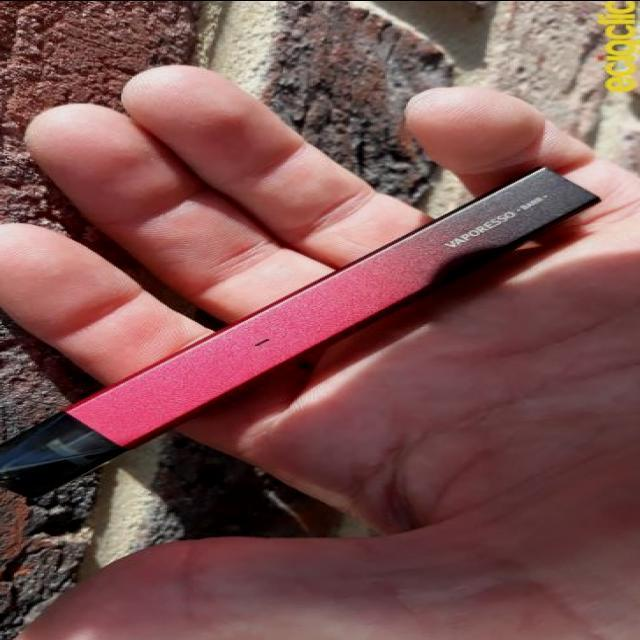Hazard: (0, 167, 601, 498)
